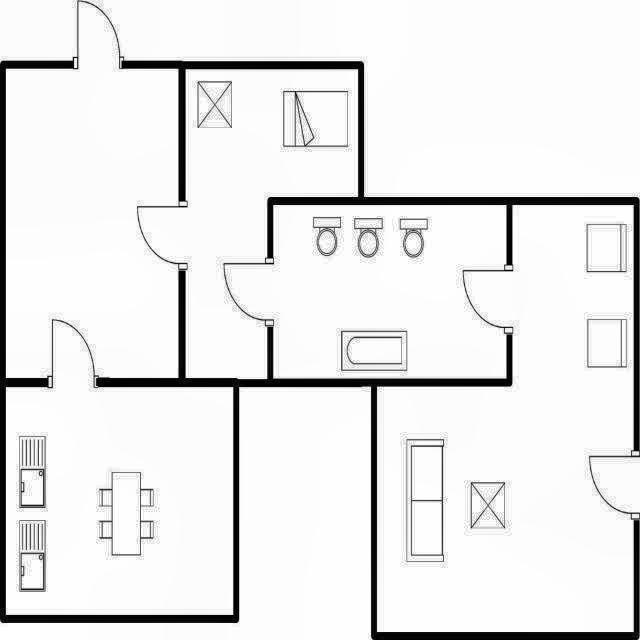room: (377, 205, 634, 632), (185, 69, 358, 379), (6, 69, 178, 378), (6, 387, 233, 615), (273, 205, 507, 379)
